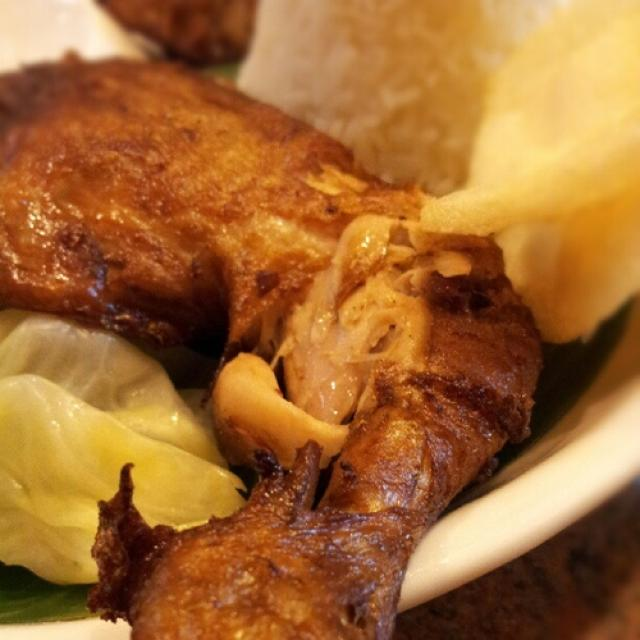鸡肉料理 含炸鸡: (5, 37, 594, 623)
